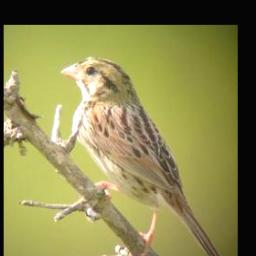Sparrow: (59, 53, 231, 256)
